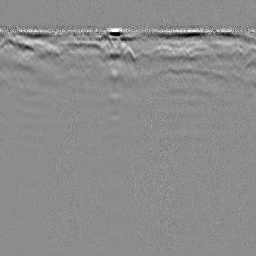cavity: (120, 44, 136, 61)
